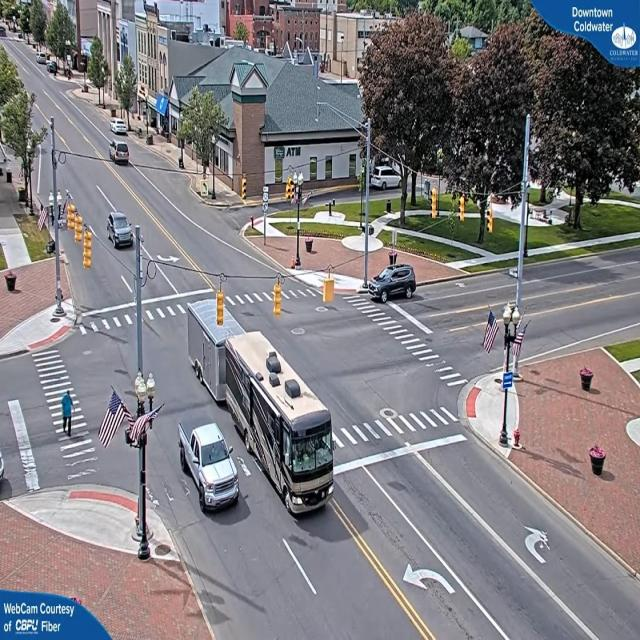car: (180, 424, 242, 512), (370, 266, 418, 303), (107, 213, 134, 247), (111, 143, 132, 166), (112, 120, 130, 136)
truck: (238, 354, 338, 521)
